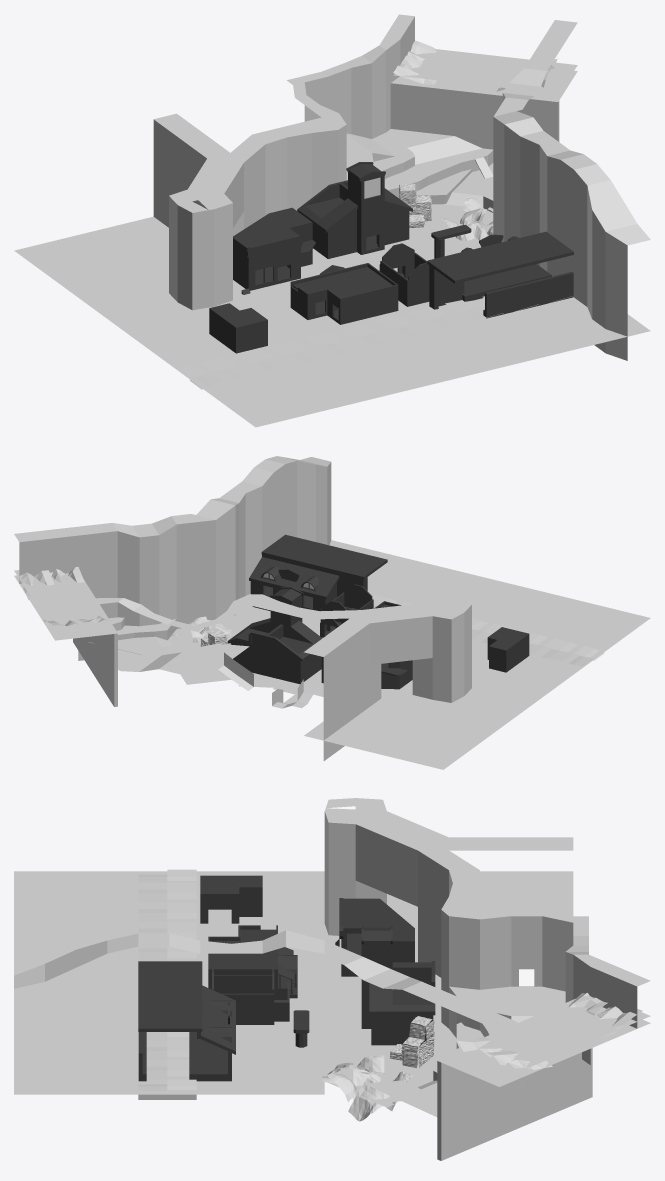
File: pl_wild_west.glb
3 views of the same model, one above another, from view 1: azimuth 30°, elevation 25°; view 2: azimuth 150°, elevation 25°; view 3: azimuth 270°, elevation 25° (orthographic). The views are drawn at different scales.
Parts seen in each view (by area): view 1: world; view 2: world; view 3: world.
Boxes of the visible parts, x1,y1,x2,y2 form: world: (14,14,650,427); world: (14,456,650,769); world: (14,798,650,1160).
Bounding box in the file's own units: 112 × 30.48 × 99.97.
1 material, 1 textured.
